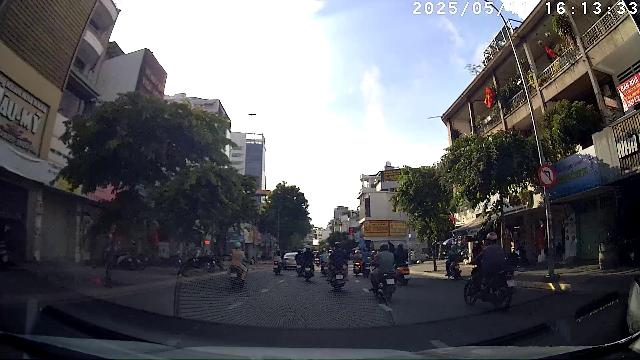123a-cam-re-trai: (538, 164, 556, 187)
